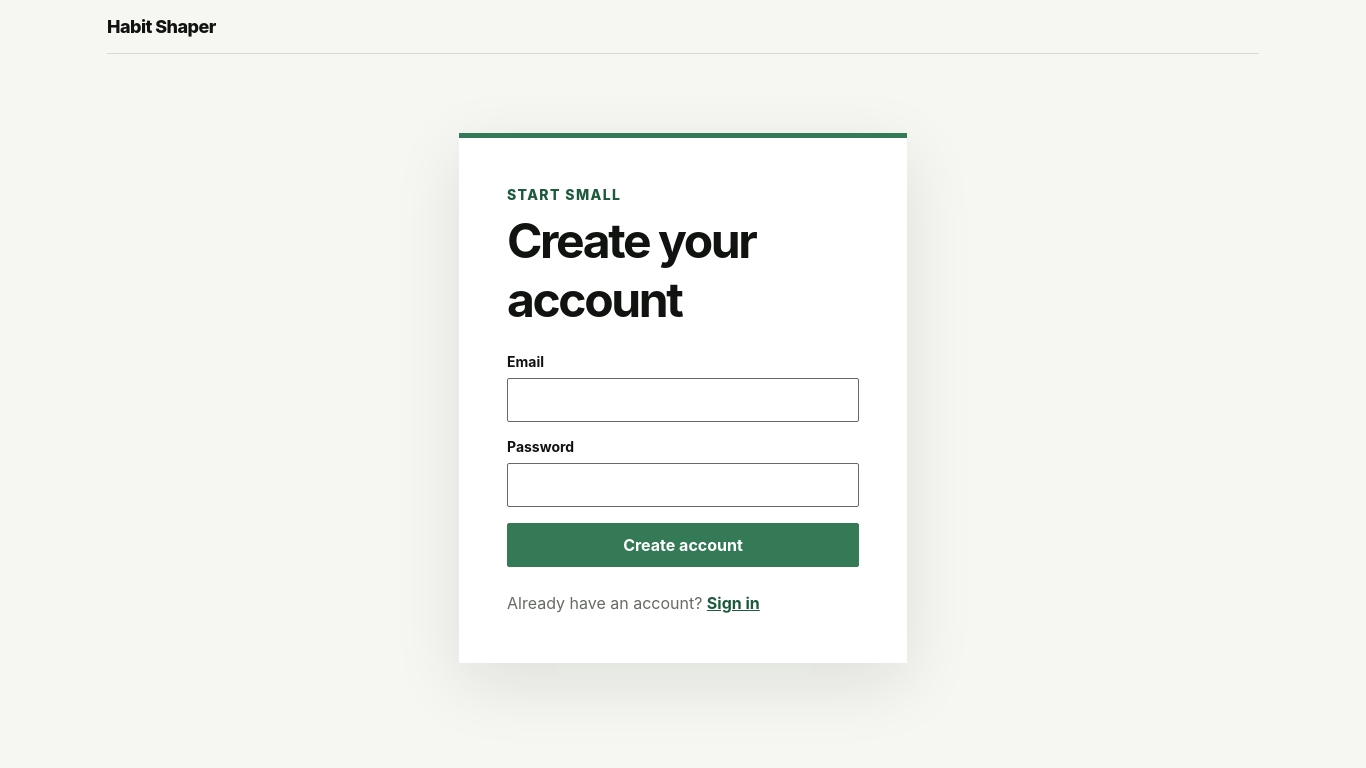
Test case: RegisterPage › keeps the form and displays a server error
Type "person@example.com" into the field labelled "Email" at (683, 400), box [507,378,859,422]
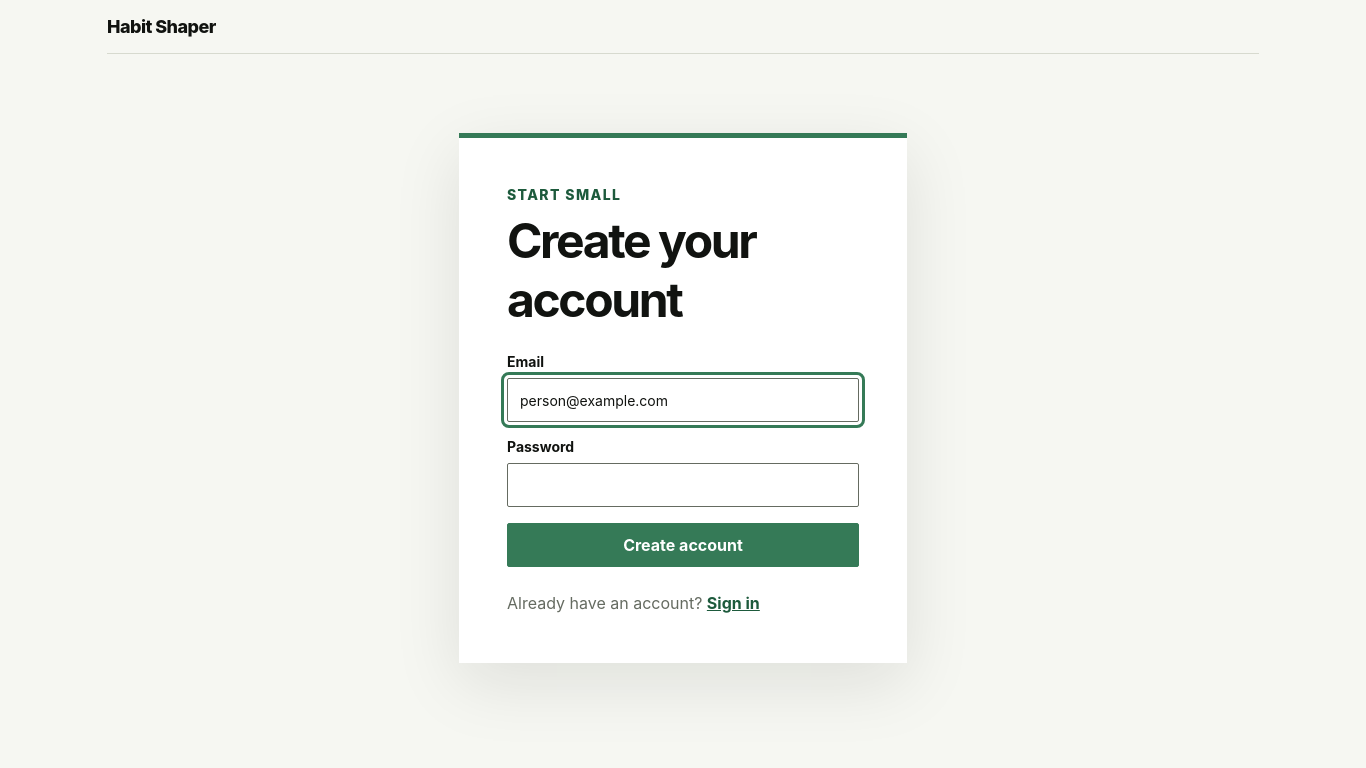
Type "valid password" into the password field labelled "Password" at (683, 485), box [507,463,859,507]
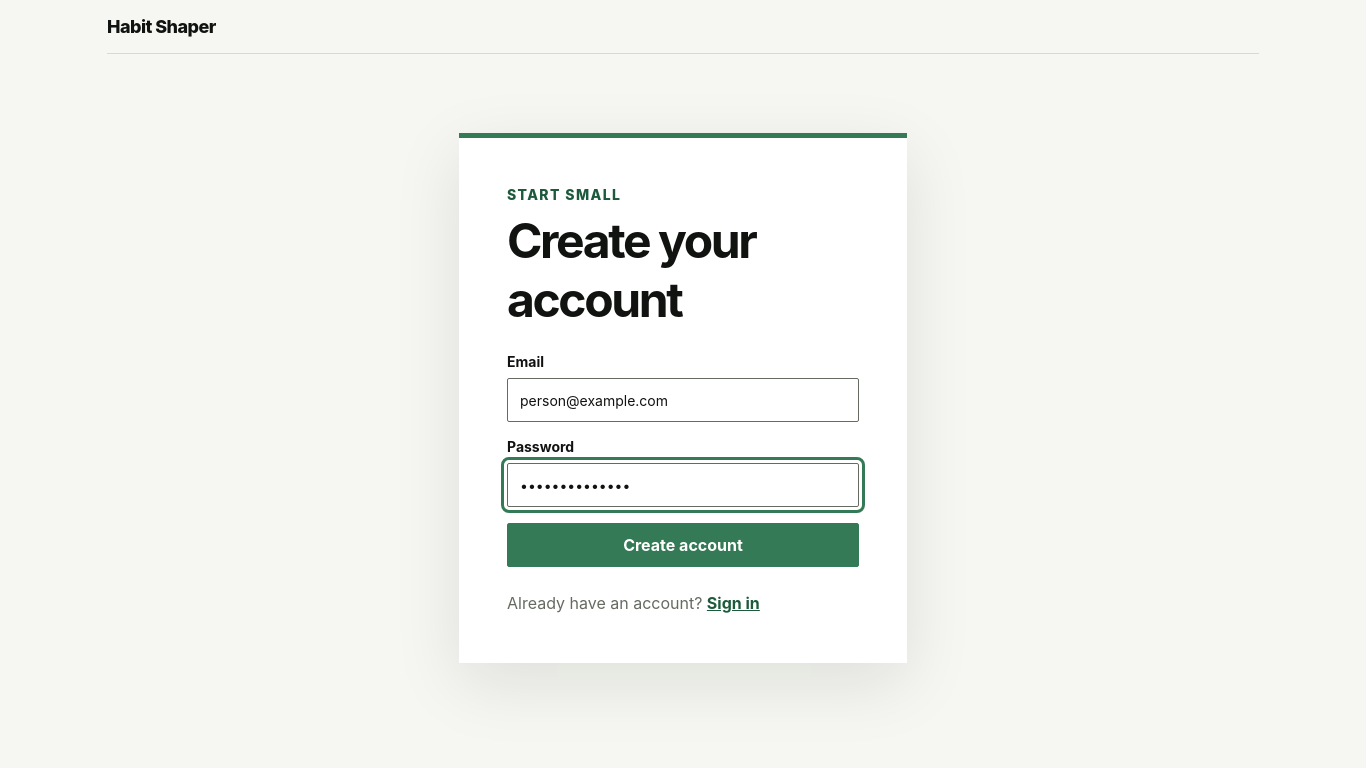
Click the button "Create account" at (683, 545), box [507,523,859,567]
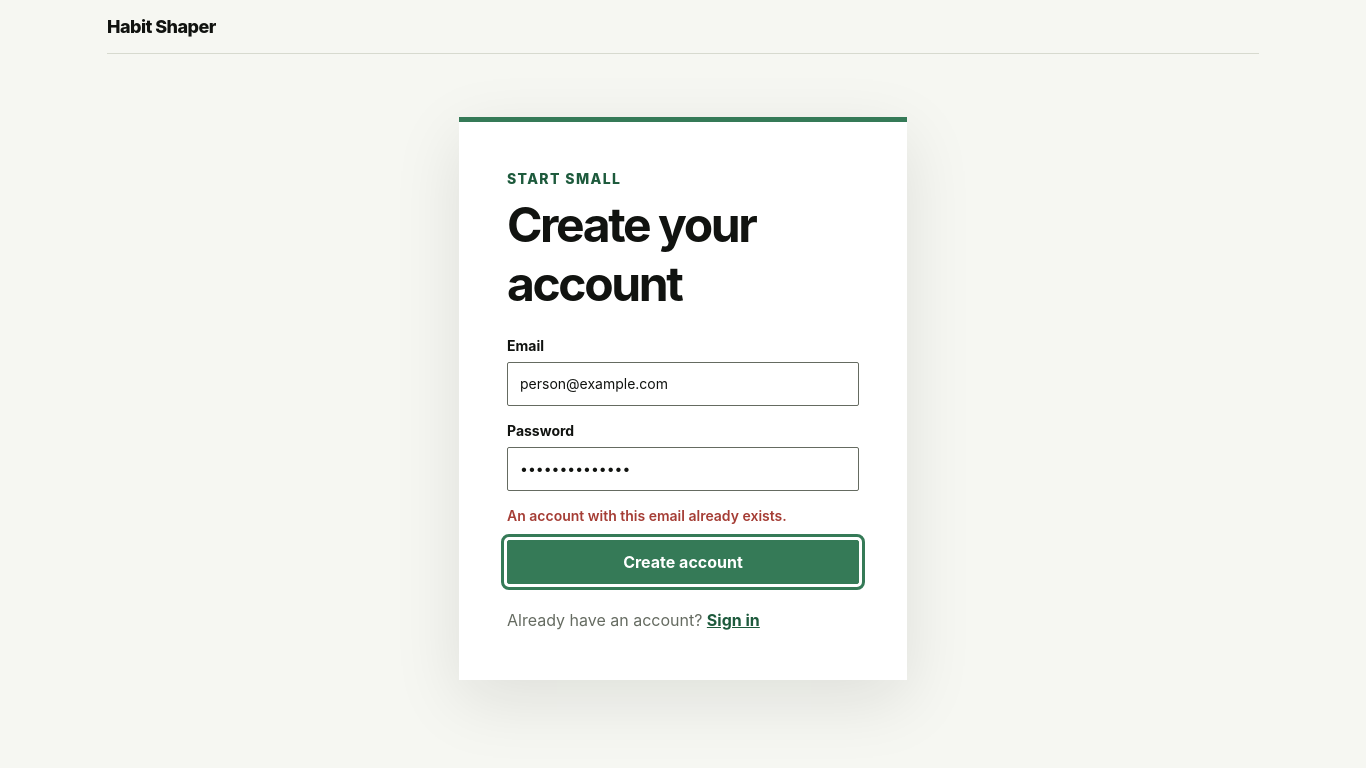
Expected: the button "Create account" is enabled, [507,540,859,584]
Now the text "An account with this email already exists." is shown, box [507,506,787,524]
